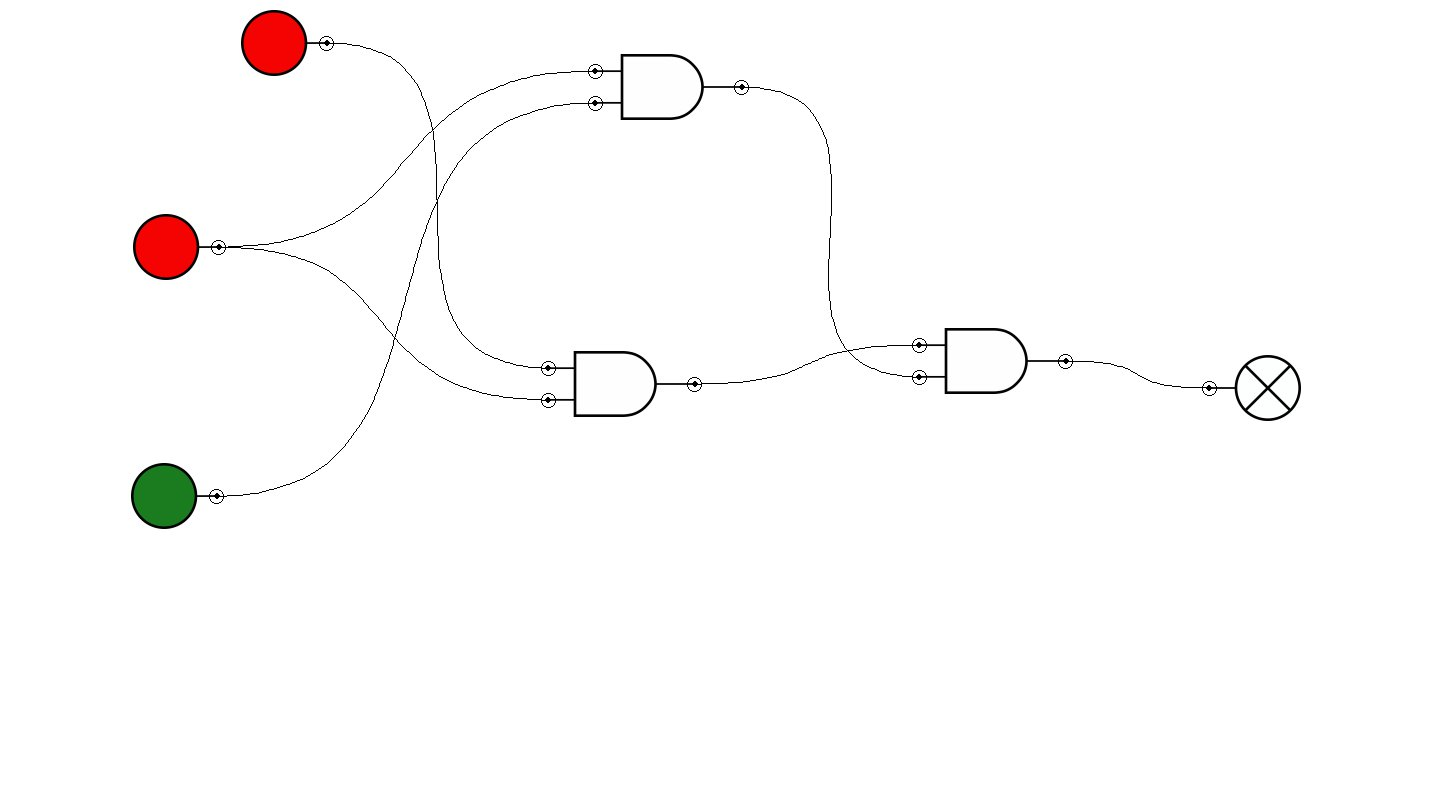and: (541, 351, 702, 417), (588, 54, 749, 120), (912, 328, 1073, 394)
bulb: (1202, 355, 1301, 421)
switch_False: (133, 214, 226, 280), (241, 10, 334, 76)
switch_True: (131, 463, 224, 529)
